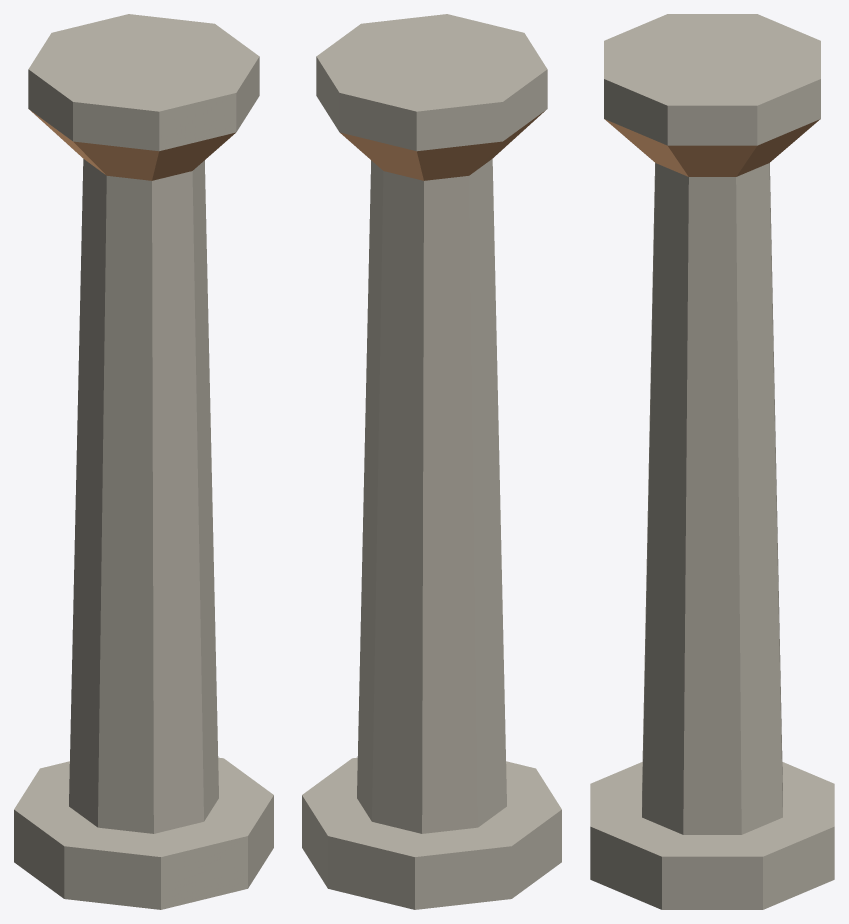
File: SM_AEON_RibColumn_6m.glb
3 renders of one model, left to right at view 1: azimuth 30°, elevation 25°; view 2: azimuth 150°, elevation 25°; view 3: azimuth 270°, elevation 25°, orthographic.
Visible parts, largest first — view 1: SM_AEON_RibColumn_6m; view 2: SM_AEON_RibColumn_6m; view 3: SM_AEON_RibColumn_6m.
Boxes of the visible parts, bbox=[...] form: SM_AEON_RibColumn_6m: bbox=[14, 14, 273, 909]; SM_AEON_RibColumn_6m: bbox=[302, 14, 561, 909]; SM_AEON_RibColumn_6m: bbox=[590, 14, 834, 909].
Size of the model in its own units: 1.66 by 6 by 1.66.
